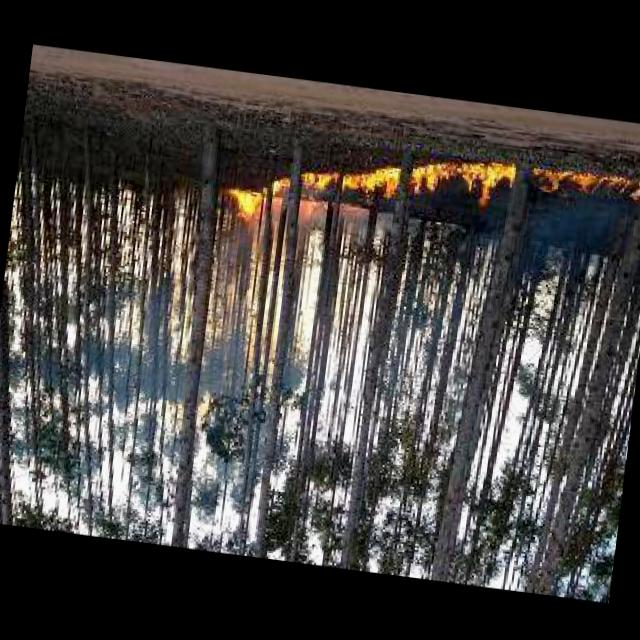helmet: (217, 120, 640, 273)
